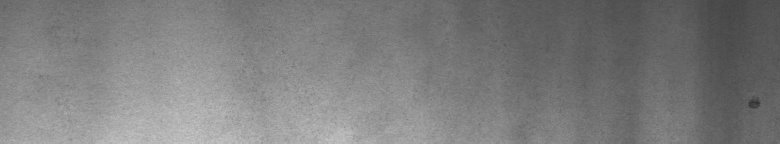fi: (743, 92, 764, 116)
